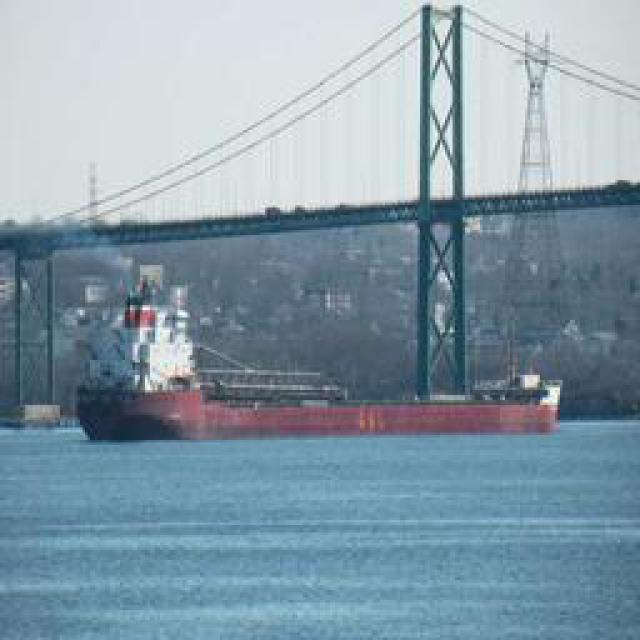Ship: (71, 352, 569, 440)
